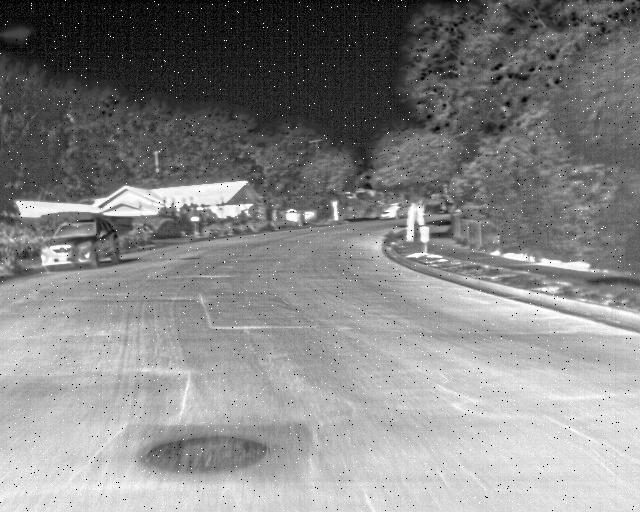car: (37, 214, 116, 281)
